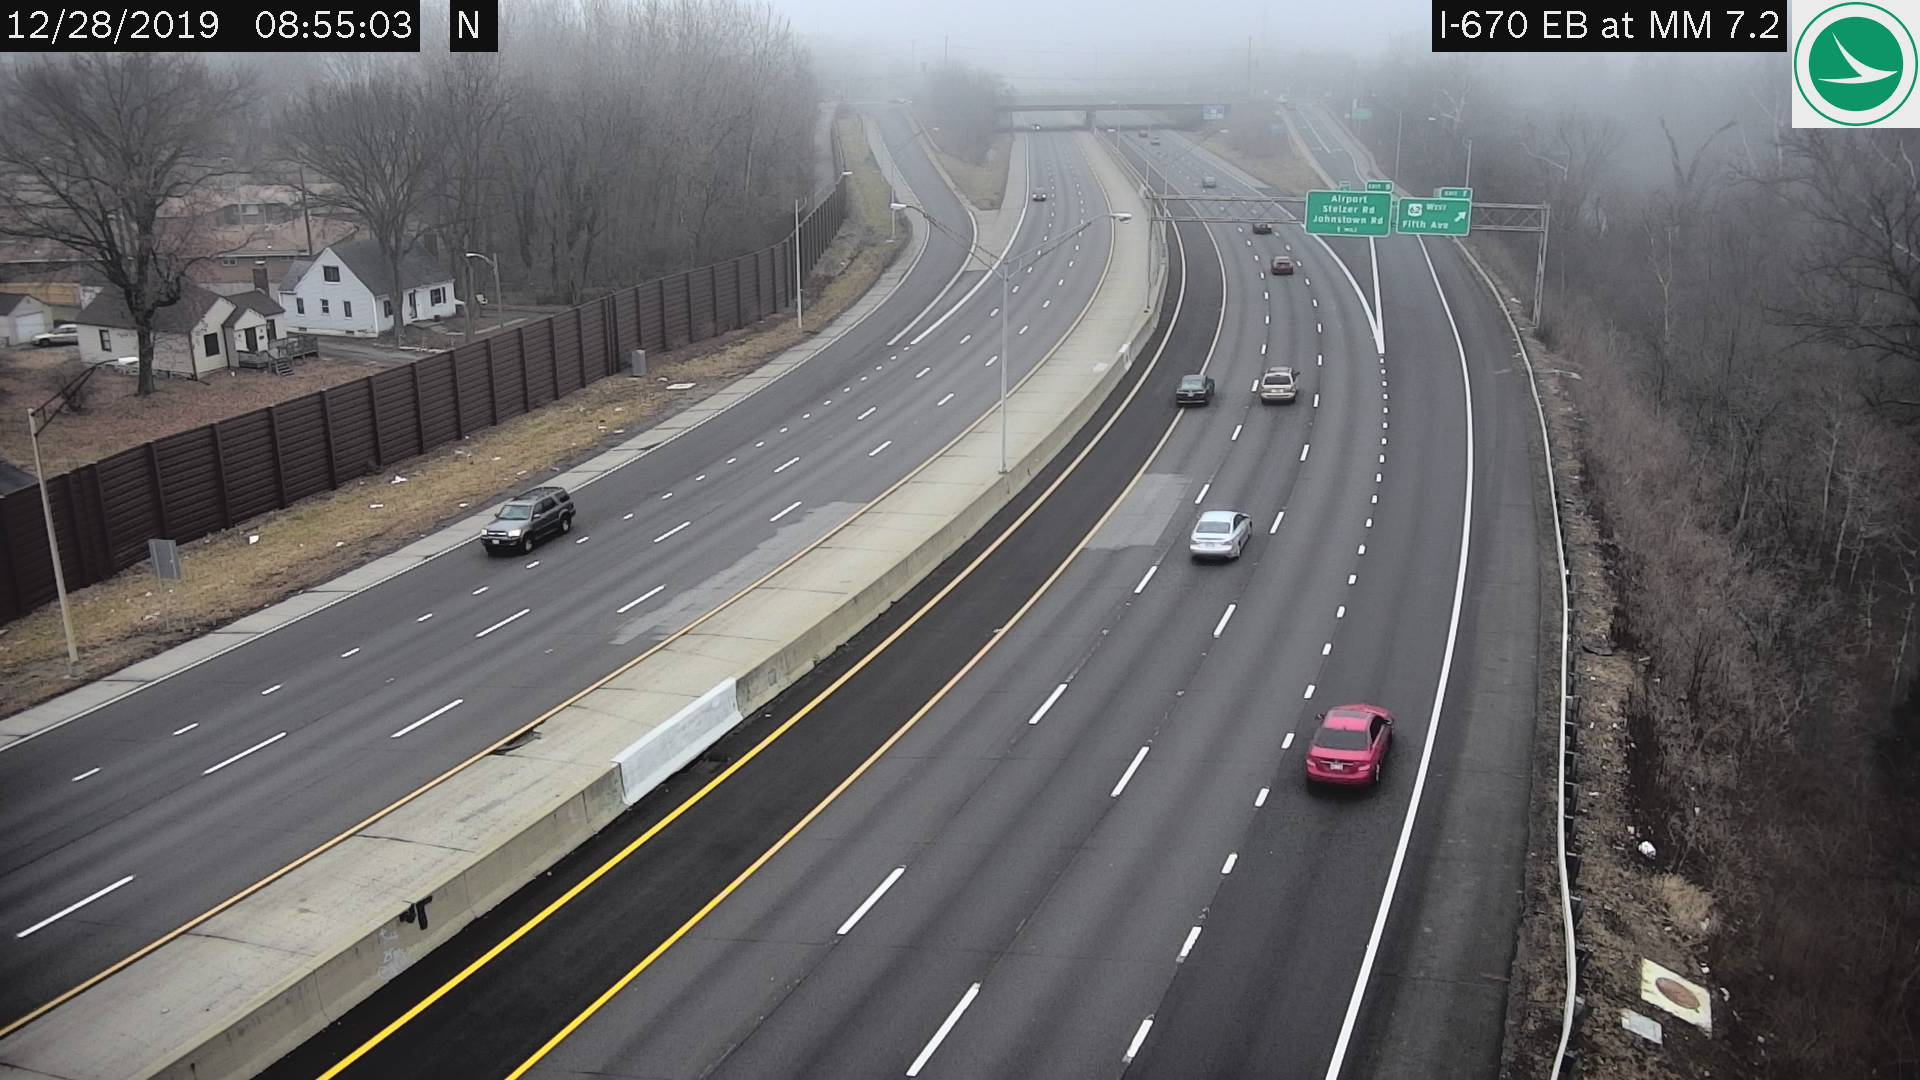car: (1305, 704, 1394, 789), (483, 484, 574, 556), (1189, 508, 1250, 560), (1174, 371, 1215, 404), (1261, 365, 1299, 398), (1269, 255, 1294, 272), (1253, 220, 1271, 232)
